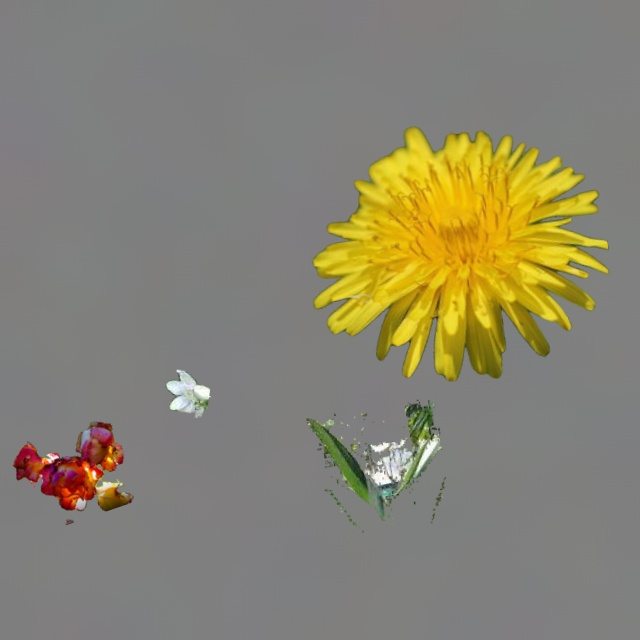dandelion: (313, 127, 608, 380)
jasmine: (166, 370, 210, 417)
rose: (13, 422, 132, 524)
ylang-ylang: (307, 399, 445, 532)
